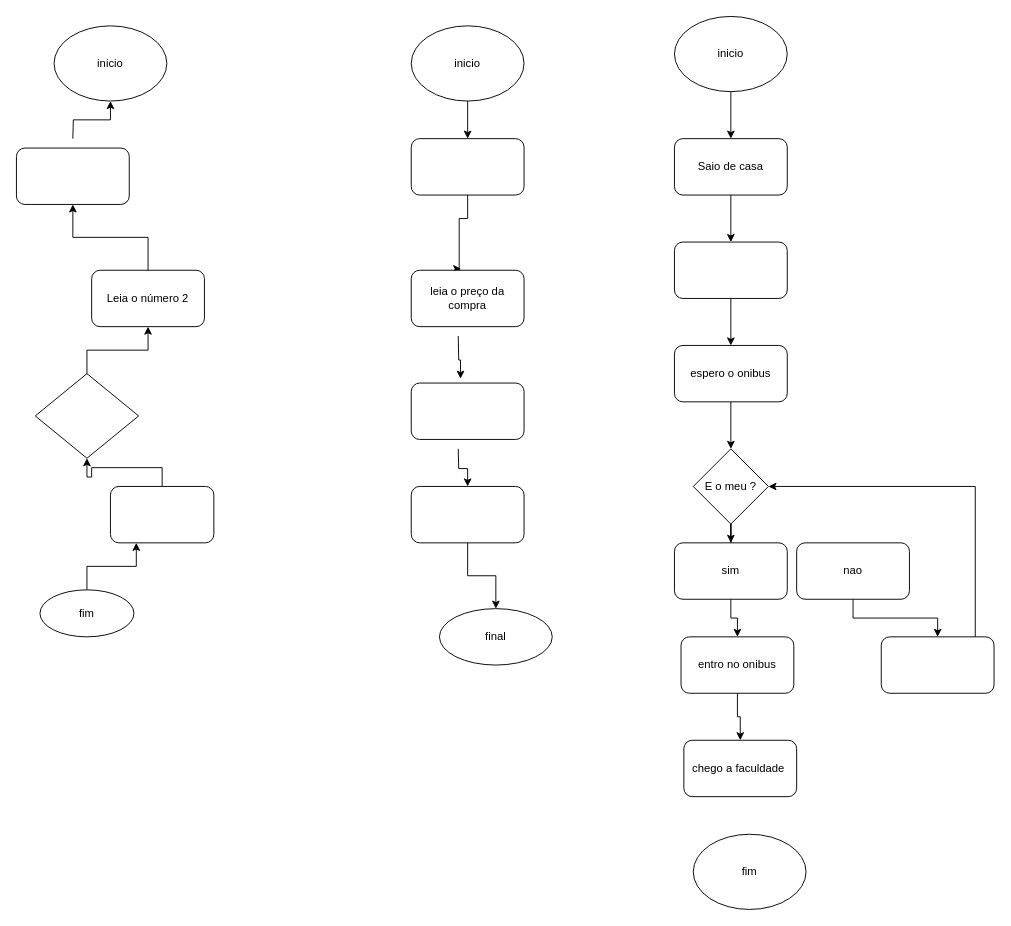
The diagram is 1011 pixels wide and 926 high, and some of its shapes have lost their labels. Here are the shapes that lost their labels. From the top down, the box of each, then its label:
(16, 147, 129, 204): Leia numero 1
(410, 138, 524, 195): Total da compra 0
(674, 241, 787, 298): ando ate o ponto de onibos
(34, 373, 139, 458): soma = numero 1+ numero 2
(410, 382, 524, 439): soma total da compra
(110, 486, 214, 543): exiba soma
(410, 486, 524, 543): exibir total da compra
(880, 636, 994, 693): espero o proximo
